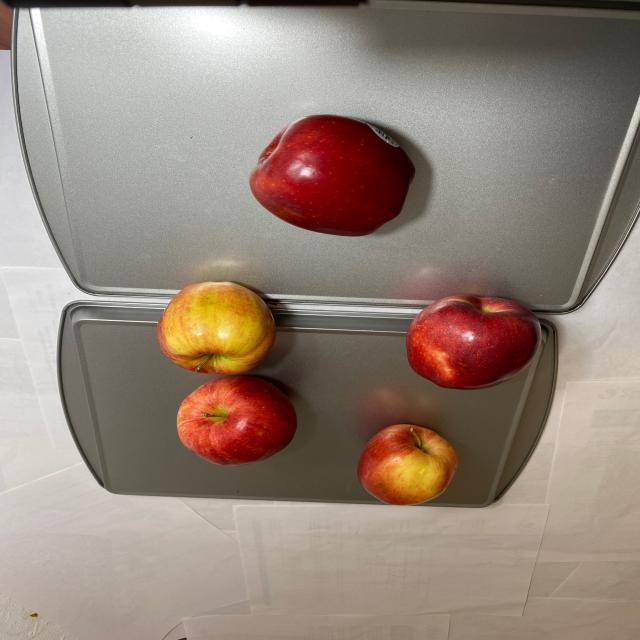apple: (157, 108, 545, 506)
